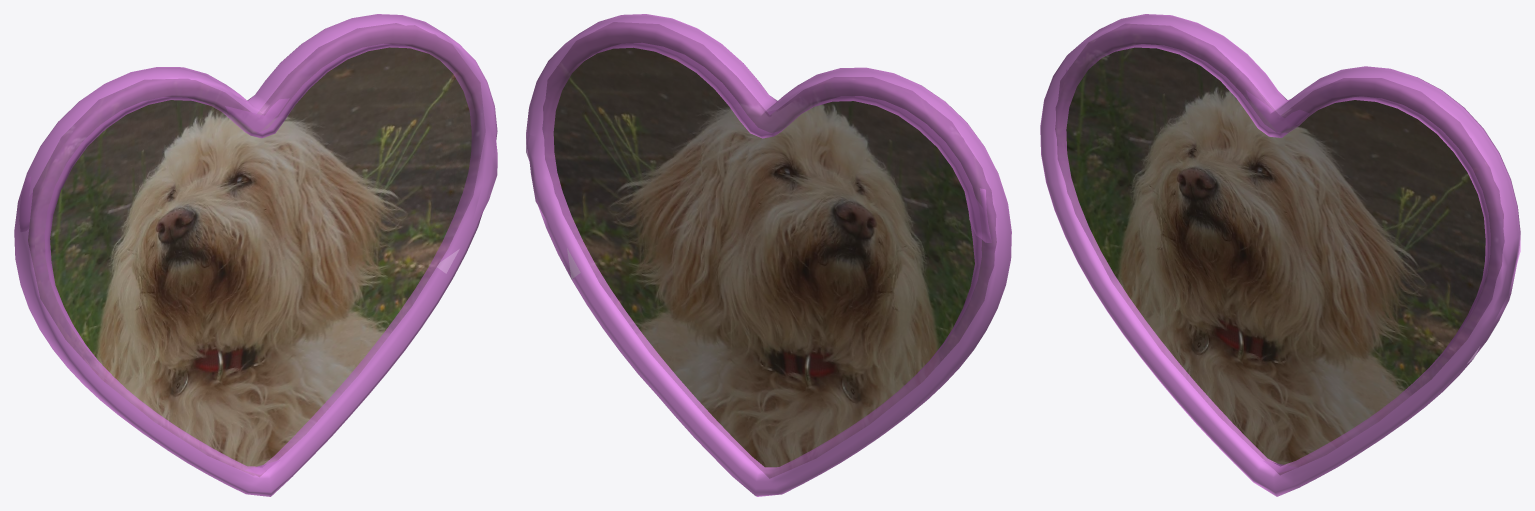
File: paula3d.glb
3 views of the same model, side by side, from view 1: azimuth 30°, elevation 25°; view 2: azimuth 150°, elevation 25°; view 3: azimuth 330°, elevation 25° (orthographic).
Visible parts, largest first — view 1: NurbsPath, verre_verre_0.001, NurbsPath.001; view 2: NurbsPath.001, verre_verre_0.001, NurbsPath; view 3: NurbsPath, verre_verre_0.001, NurbsPath.001.
Part boxes in pixels (left/top/right/bottom): NurbsPath: left=34, top=25, right=485, bottom=476; verre_verre_0.001: left=14, top=14, right=497, bottom=496; NurbsPath.001: left=28, top=23, right=436, bottom=475; NurbsPath.001: left=543, top=24, right=996, bottom=478; verre_verre_0.001: left=526, top=14, right=1011, bottom=496; NurbsPath: left=542, top=22, right=995, bottom=277; NurbsPath: left=1056, top=25, right=1504, bottom=474; verre_verre_0.001: left=1040, top=14, right=1520, bottom=496; NurbsPath.001: left=1055, top=24, right=1503, bottom=275.
Size of the model in its own units: 0.6703 by 0.6045 by 0.0508.
Materials: 2 (1 with a texture image).
